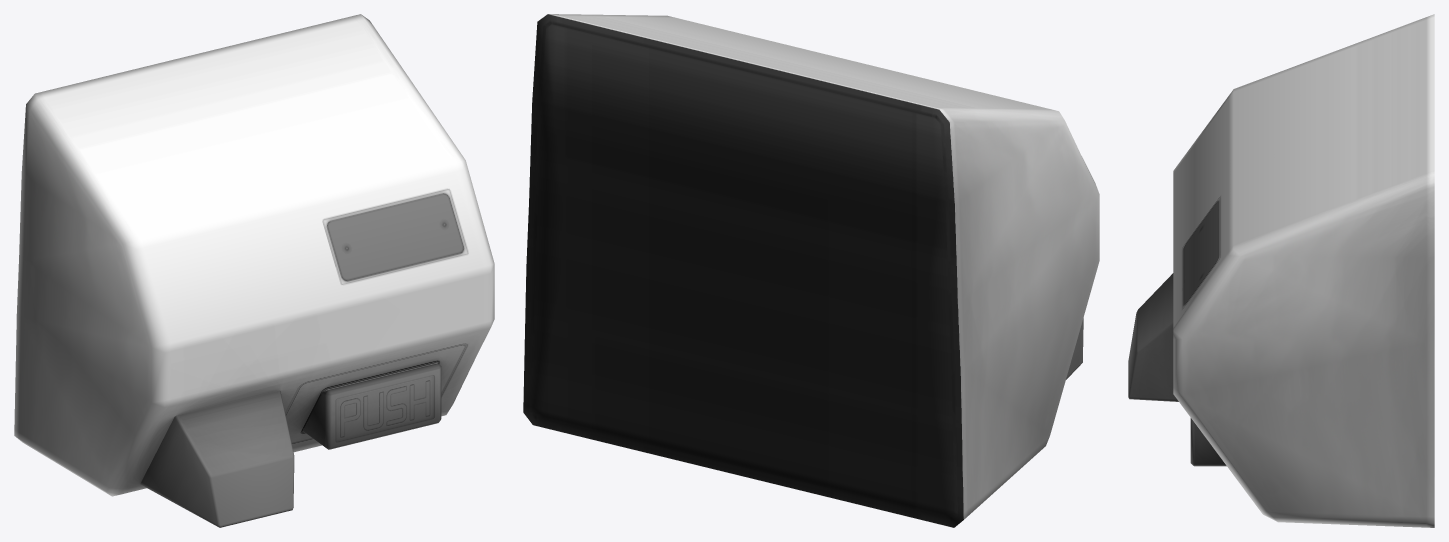
The model's file is HandDryerCleanProject.fbx.
The picture shows the model from 3 angles, left to right: view 1: azimuth 30°, elevation 25°; view 2: azimuth 150°, elevation 25°; view 3: azimuth 270°, elevation 25°; orthographic projection. The views are drawn at different scales.
Parts seen in each view (by area): view 1: Hand Dryer; view 2: Hand Dryer; view 3: Hand Dryer.
Part boxes in pixels (box(x1,y1,x2,y2)): Hand Dryer: box(14, 14, 494, 527); Hand Dryer: box(523, 14, 1099, 527); Hand Dryer: box(1128, 14, 1434, 527).
Size of the model in its own units: 104 by 93.6 by 74.77.
Materials: 1 (1 with a texture image).
